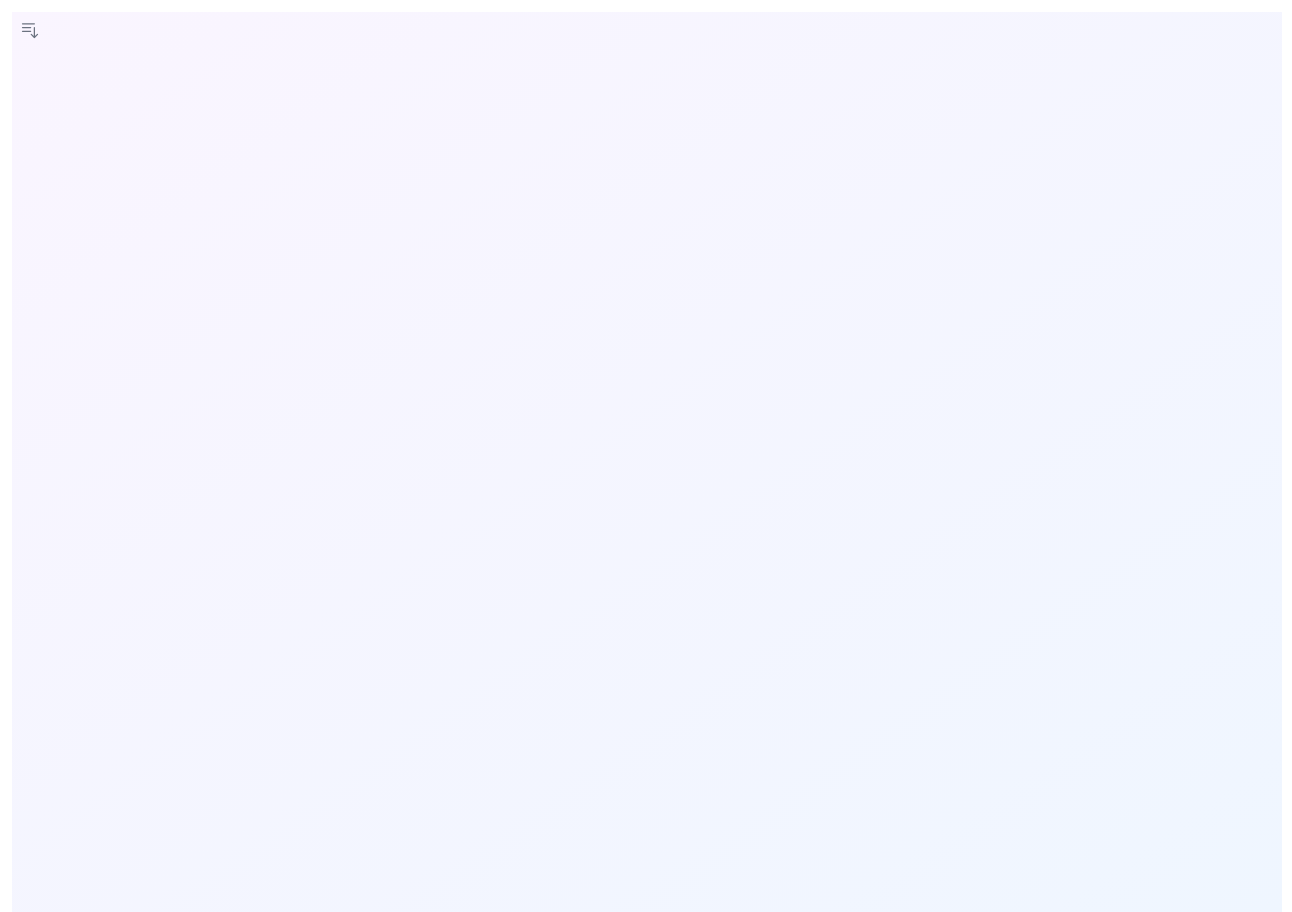
ListSortDropdown › opens dropdown when button is clicked
The image size is (1292, 912).
Click the button titled "Sort options".
click(30, 30)  # box x1=12 y1=12 x2=48 y2=48
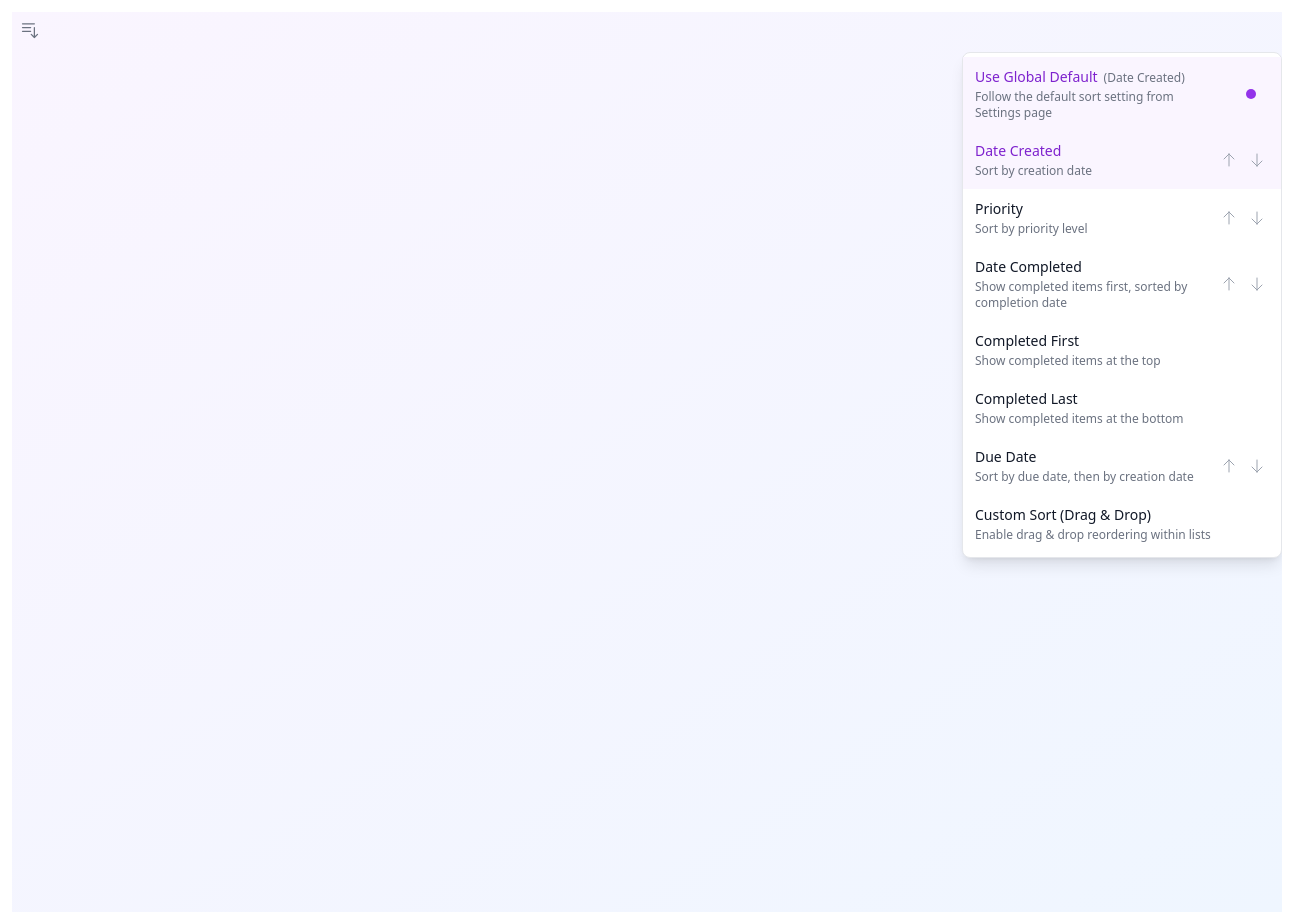
expect the list is shown: met, box x1=962 y1=52 x2=1282 y2=558
